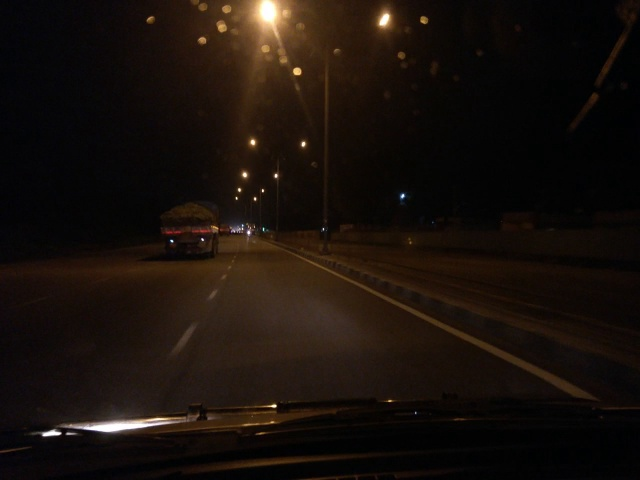truck: (157, 199, 225, 256), (219, 226, 235, 238)
